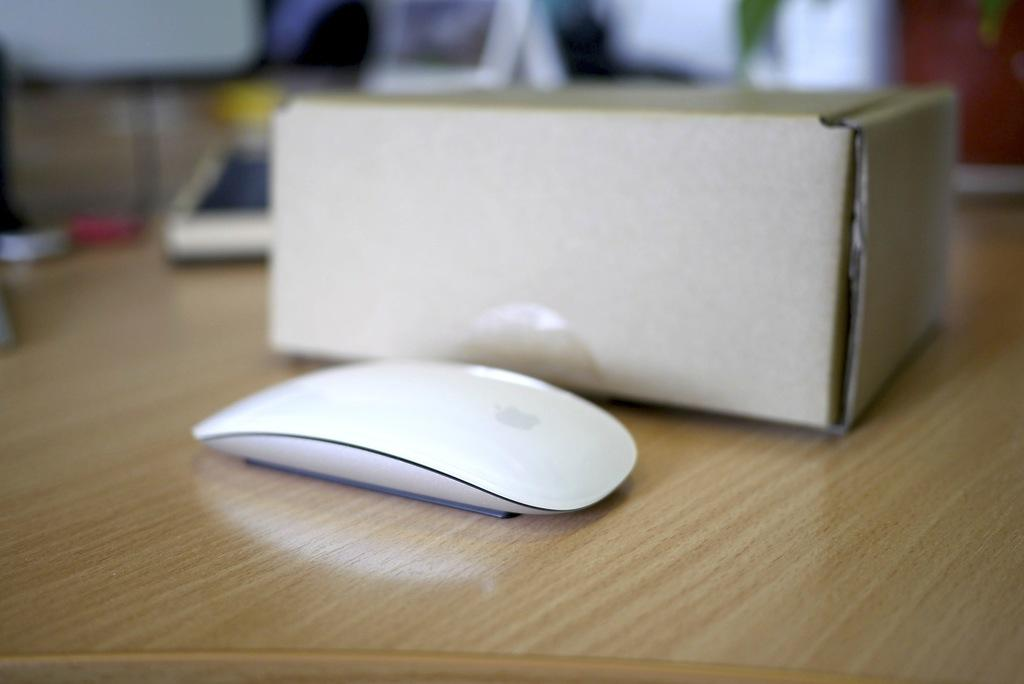Computer-mouse: (191, 352, 638, 519)
